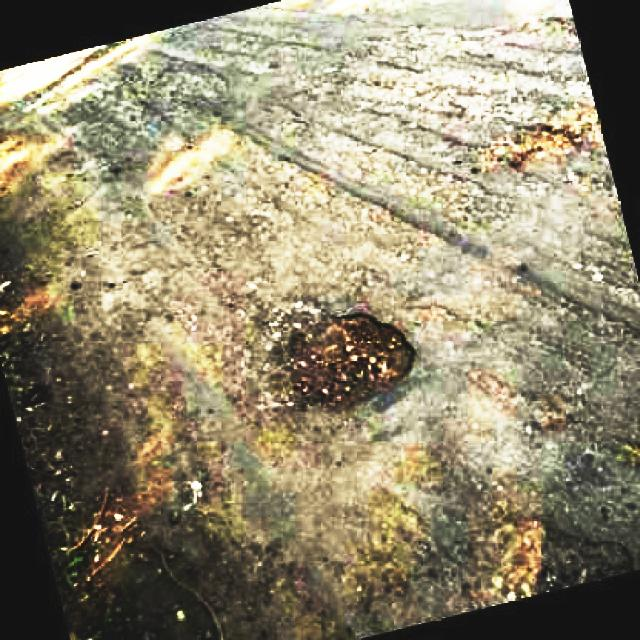pothole: (271, 315, 418, 414), (491, 517, 634, 600), (489, 117, 577, 172)
